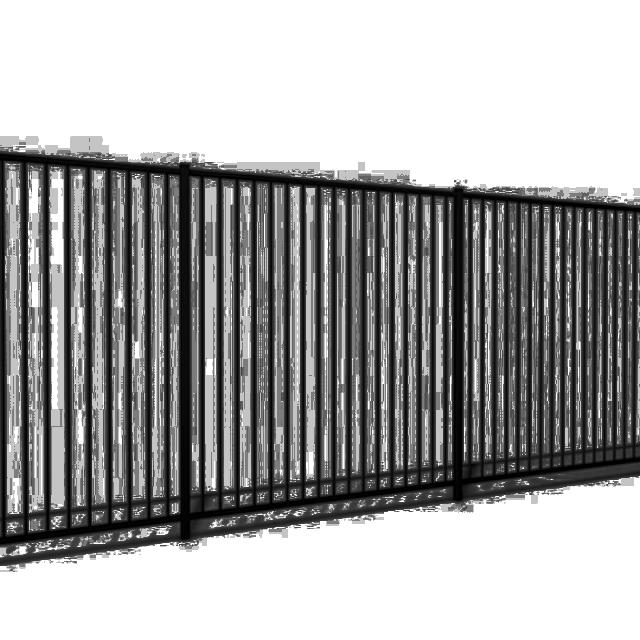fences: (0, 191, 639, 481)
